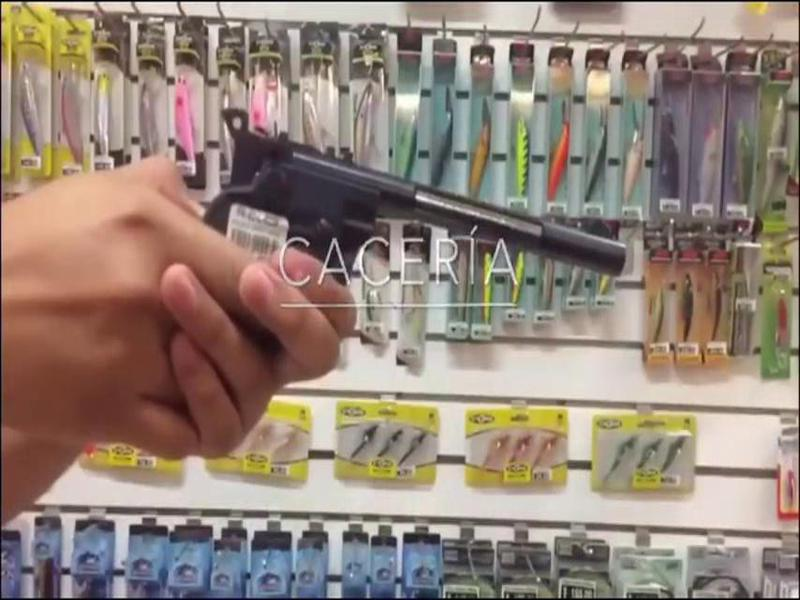Pistola: (146, 106, 691, 339)
